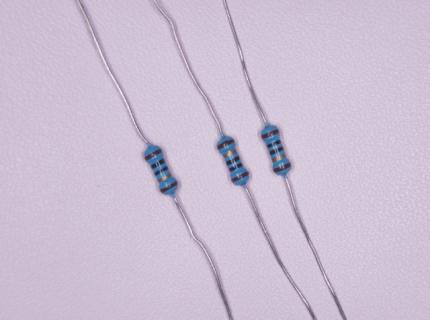Black band: (150, 158, 166, 170), (228, 162, 243, 173), (225, 156, 240, 166), (155, 166, 169, 176), (267, 139, 281, 148), (270, 146, 284, 155)
Brown band: (160, 180, 178, 193), (145, 148, 163, 160), (217, 138, 235, 150), (232, 171, 249, 183), (273, 162, 291, 173), (261, 129, 279, 139)
Gold band: (158, 173, 172, 184), (223, 149, 237, 159), (272, 154, 286, 162)
